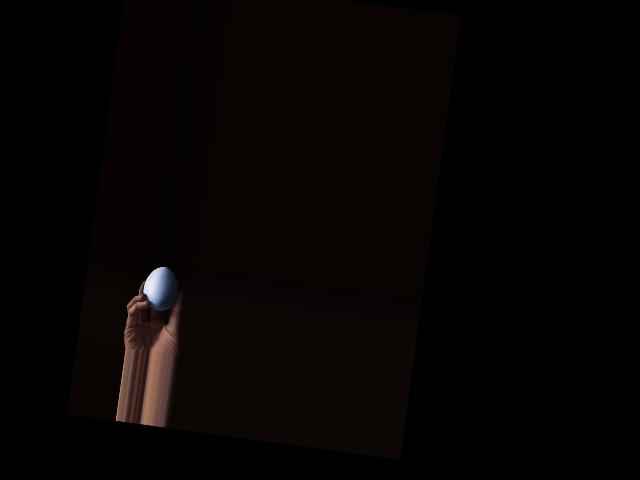egg: (140, 263, 180, 312)
